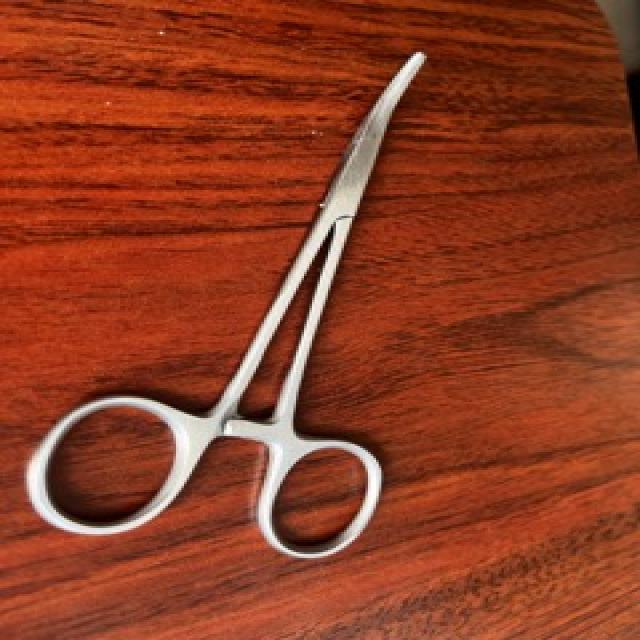scissor: (21, 45, 435, 564)
